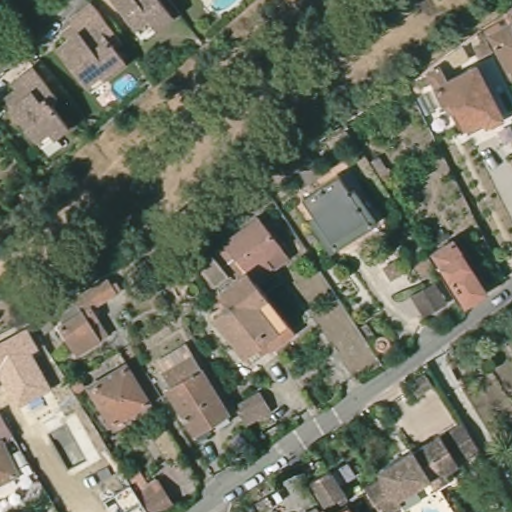pool: (108, 72, 143, 101), (199, 1, 244, 13)
